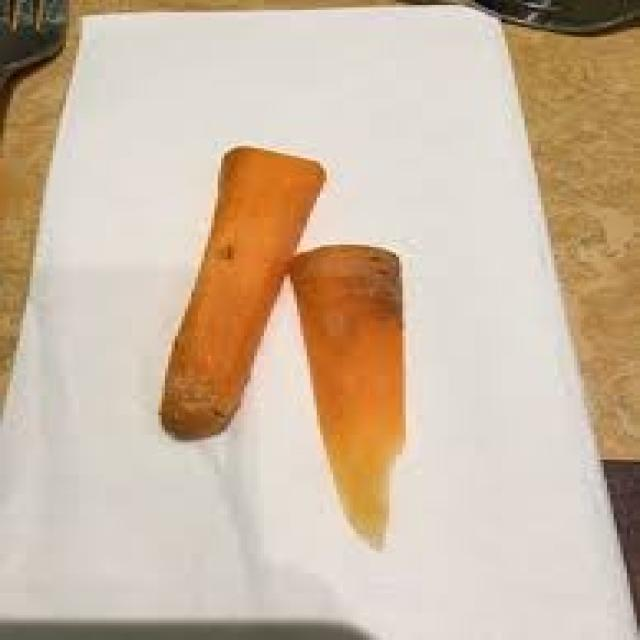Stale_Carrot: (162, 147, 404, 548)
